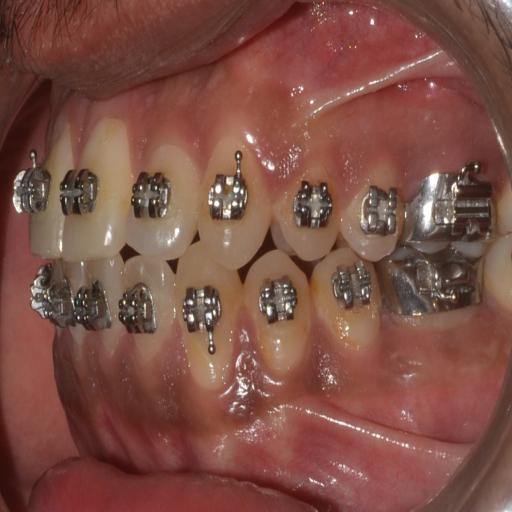correct_brace: (308, 245, 389, 366), (269, 150, 341, 256), (328, 254, 374, 321), (256, 272, 304, 334), (181, 280, 224, 346), (129, 170, 175, 223), (120, 282, 158, 340), (62, 165, 98, 225)
incorrect_brace: (171, 242, 243, 377), (131, 133, 201, 265), (289, 166, 339, 246)
